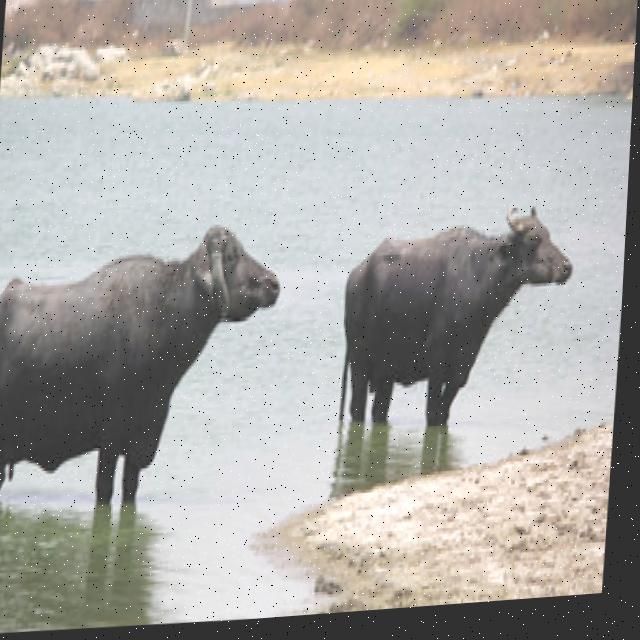Buffalo: (0, 207, 286, 511), (334, 195, 580, 435)
